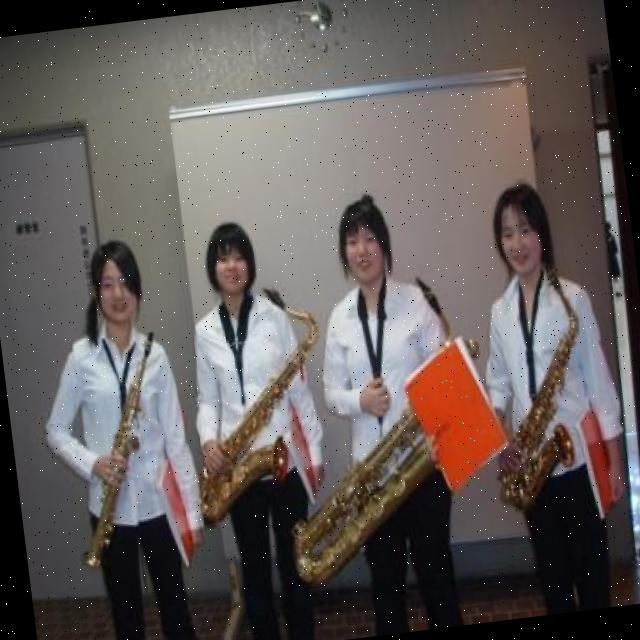saxophone: (259, 266, 506, 596), (168, 278, 346, 526), (468, 259, 606, 524), (51, 324, 186, 579)
